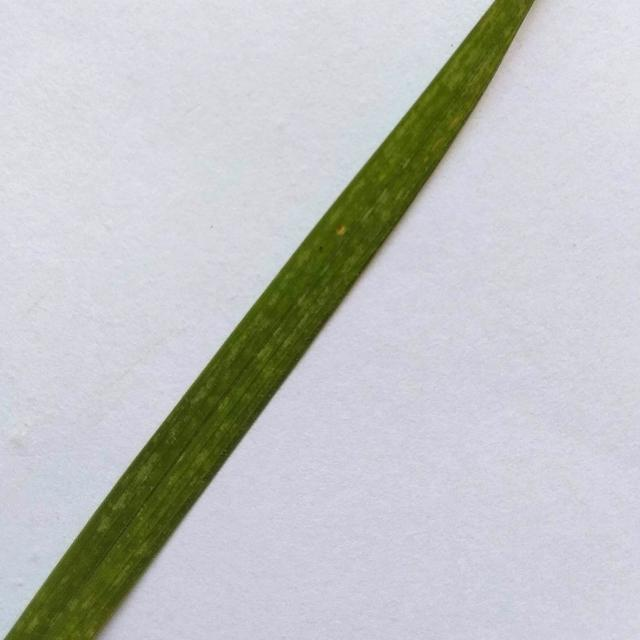brownspots: (333, 221, 350, 239)
